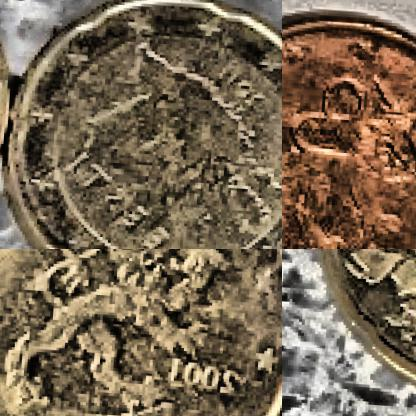coin: (0, 0, 281, 248), (0, 249, 281, 415), (282, 0, 415, 248), (307, 249, 415, 414)
